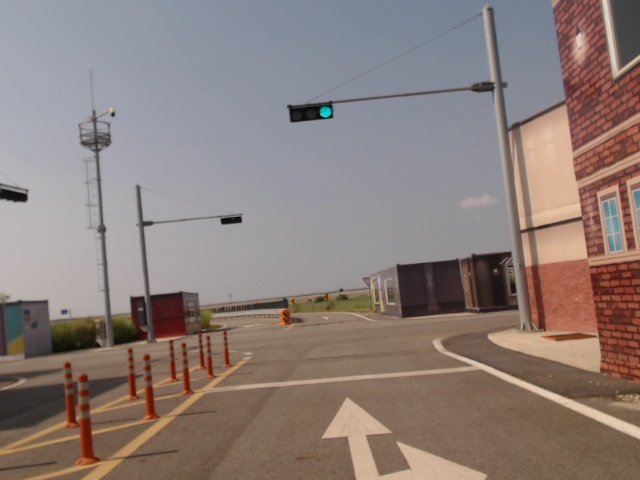green_3: (289, 103, 333, 122)
